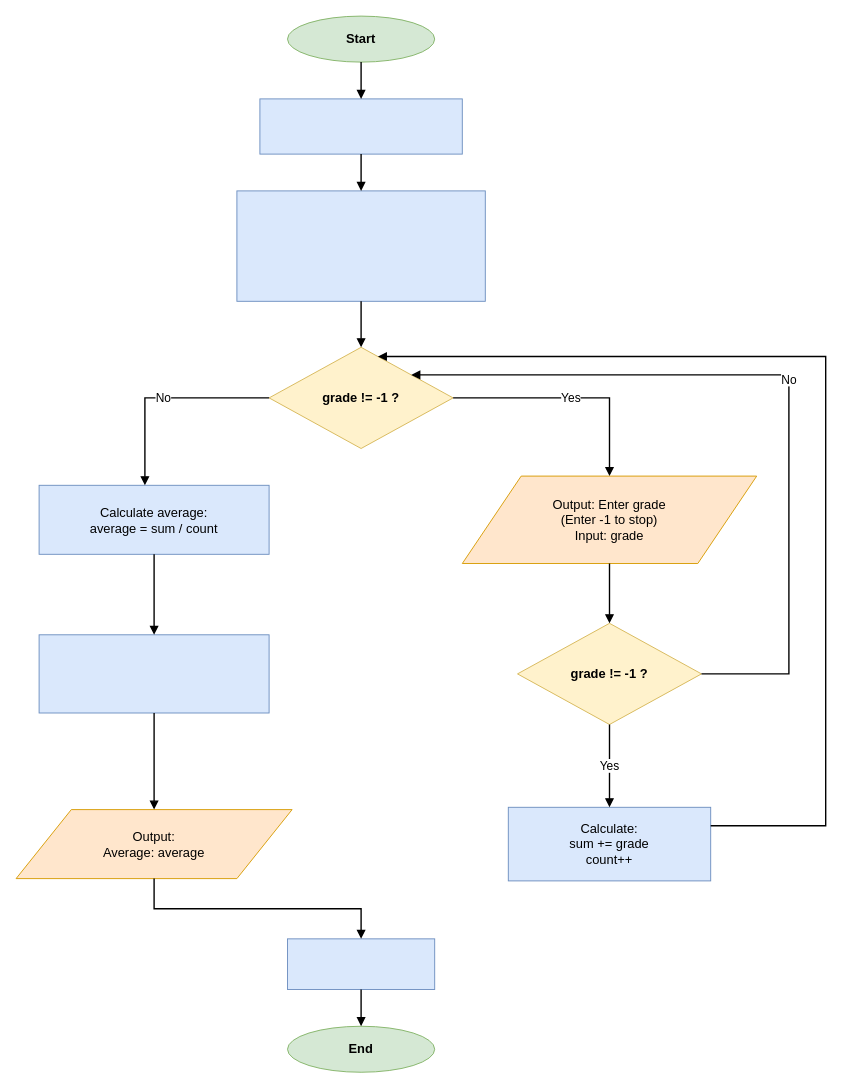
Image size: 850x1088. Some labels were removed from this diagram. Each missing label, with the box of its shape:
Declare and initialize variables: grade = 0.0 average = 0.0 sum = 0.0 count = 0: (236, 190, 485, 301)
Enter main() function: (259, 98, 462, 154)
Return 0: (287, 938, 435, 989)
Set output format: fixed setprecision(2): (38, 634, 269, 713)
